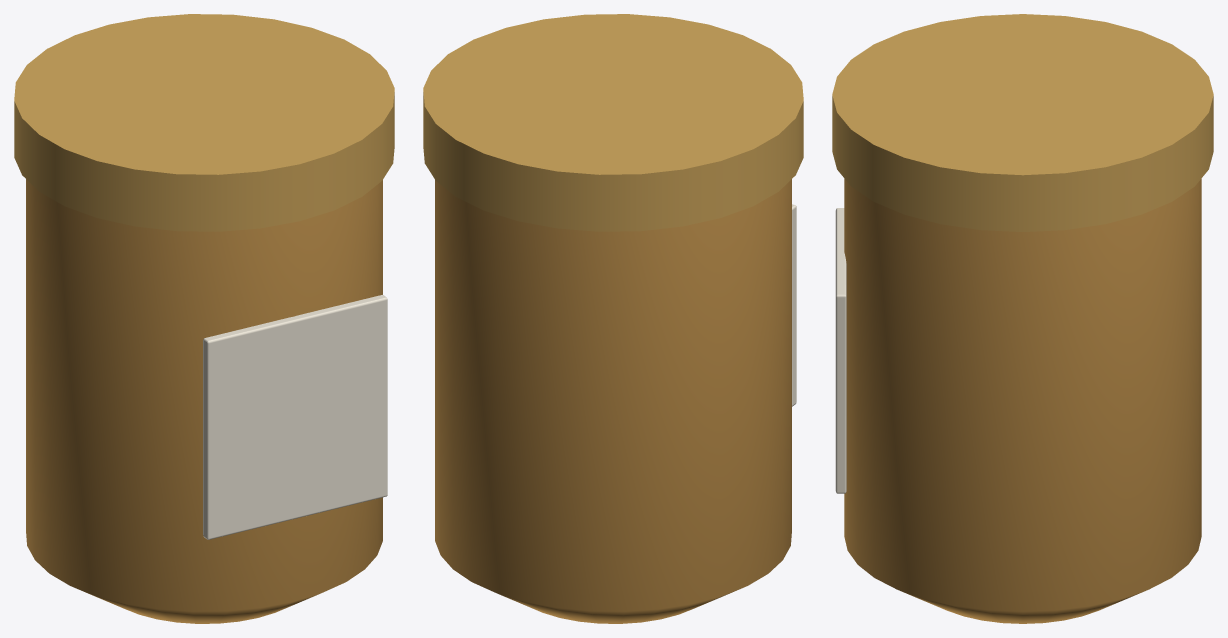
Rendered from wp-pot-de-miel.glb.
The picture shows the model from 3 angles, left to right: view 1: azimuth 30°, elevation 25°; view 2: azimuth 150°, elevation 25°; view 3: azimuth 270°, elevation 25°; orthographic projection.
Visible parts, largest first — view 1: wp-pot-de-miel; view 2: wp-pot-de-miel; view 3: wp-pot-de-miel.
Boxes of the visible parts, x1,y1,x2,y2 form: wp-pot-de-miel: (14,14,394,623); wp-pot-de-miel: (423,14,803,623); wp-pot-de-miel: (832,14,1213,623).
Size of the model in its own units: 0.1 by 0.14 by 0.1.
